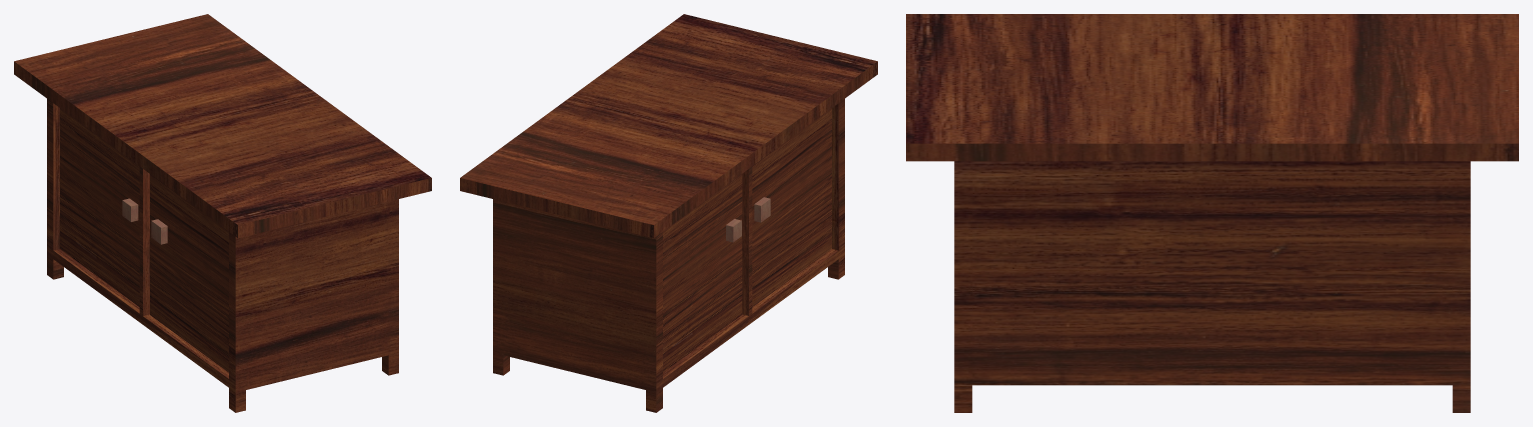
Rendered from Meja.fbx.
The picture shows the model from 3 angles, left to right: view 1: azimuth 30°, elevation 25°; view 2: azimuth 150°, elevation 25°; view 3: azimuth 270°, elevation 25°; orthographic projection. The views are drawn at different scales.
Visible parts, largest first — view 1: Laci, Pintu 1, Pintu 2; view 2: Laci, Pintu 1, Pintu 2; view 3: Laci.
Part boxes in pixels (left/top/right/bottom): Laci: left=14, top=14, right=431, bottom=412; Pintu 1: left=60, top=108, right=139, bottom=306; Pintu 2: left=150, top=174, right=228, bottom=372; Laci: left=460, top=14, right=877, bottom=412; Pintu 1: left=663, top=174, right=742, bottom=372; Pintu 2: left=752, top=108, right=831, bottom=306; Laci: left=906, top=14, right=1518, bottom=412.
Size of the model in its own units: 119 by 120 by 237.
